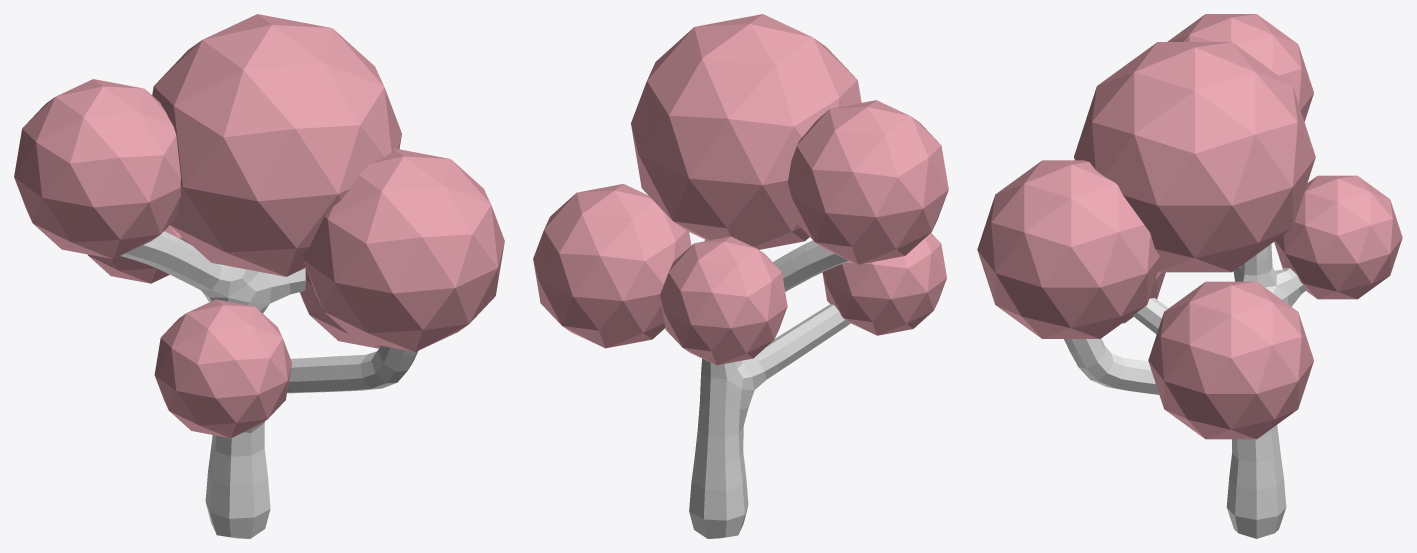
The model's file is tree.fbx.
3 views of the same model, side by side, from view 1: azimuth 30°, elevation 25°; view 2: azimuth 150°, elevation 25°; view 3: azimuth 270°, elevation 25° (orthographic). The views are drawn at different scales.
Parts seen in each view (by area): view 1: Icosphere.001, Icosphere, Icosphere.004, Cube, Icosphere.005, Icosphere.002, Icosphere.003; view 2: Icosphere.001, Icosphere.004, Icosphere.003, Cube, Icosphere.002, Icosphere.005; view 3: Icosphere.001, Icosphere, Icosphere.003, Icosphere.002, Cube, Icosphere.004.
Boxes of the visible parts, <box> form: Icosphere.001: <box>152,14,401,276</box>; Icosphere: <box>303,148,504,351</box>; Icosphere.004: <box>14,79,180,258</box>; Cube: <box>120,231,418,538</box>; Icosphere.005: <box>154,299,291,438</box>; Icosphere.002: <box>87,225,190,283</box>; Icosphere.003: <box>300,268,379,348</box>; Icosphere.001: <box>631,14,861,249</box>; Icosphere.004: <box>787,100,948,264</box>; Icosphere.003: <box>533,184,691,348</box>; Cube: <box>689,238,850,538</box>; Icosphere.002: <box>660,236,787,365</box>; Icosphere.005: <box>822,233,946,335</box>; Icosphere.001: <box>1074,42,1315,272</box>; Icosphere: <box>977,160,1160,338</box>; Icosphere.003: <box>1148,281,1313,439</box>; Icosphere.002: <box>1274,175,1402,299</box>; Cube: <box>1064,244,1306,538</box>; Icosphere.004: <box>1167,14,1313,121</box>.
Size of the model in its own units: 81.35 by 98.05 by 77.15.
